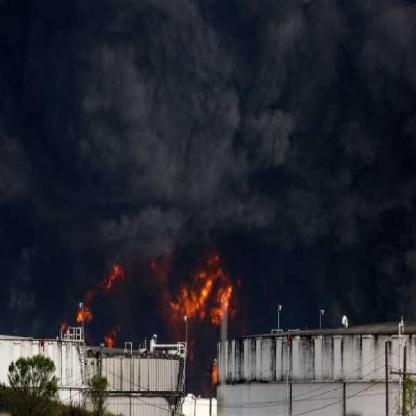fire: (168, 250, 243, 332), (102, 262, 126, 290), (76, 296, 94, 326), (104, 328, 119, 352), (212, 362, 219, 384), (61, 320, 68, 332)
